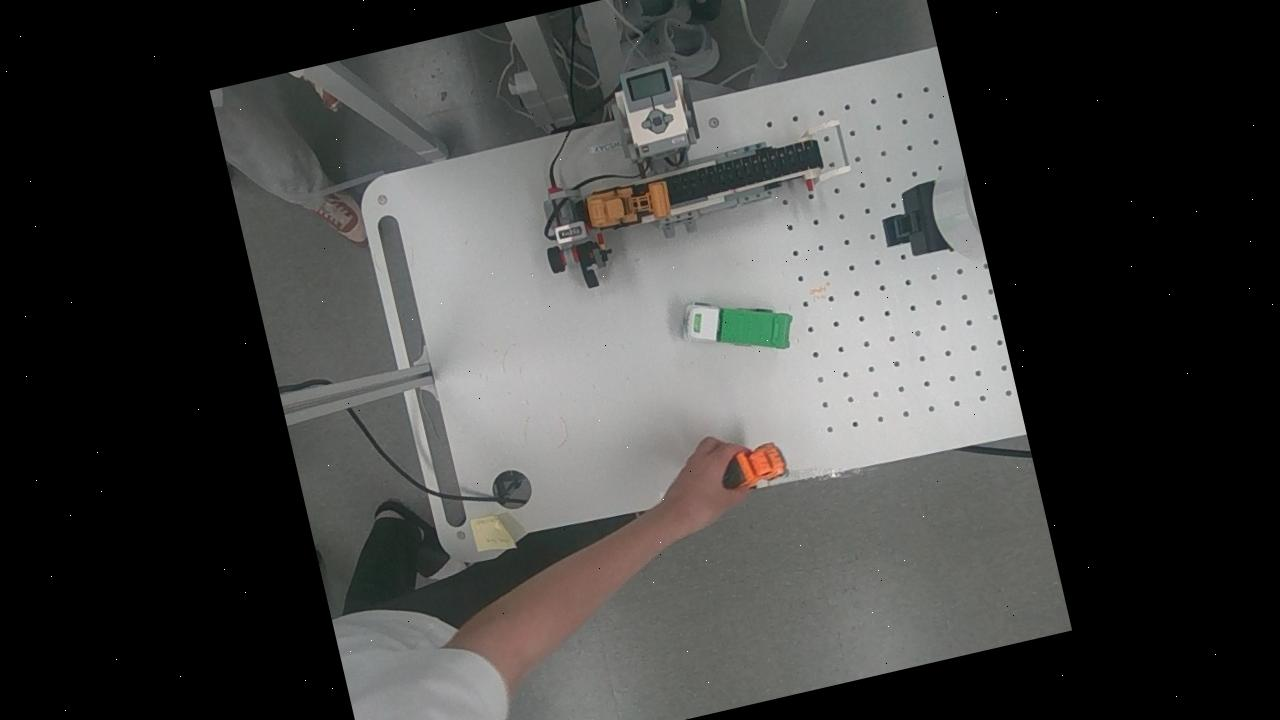green_car: (672, 272, 804, 374)
orange_car: (714, 436, 794, 494)
yellow_car: (576, 168, 680, 240)
